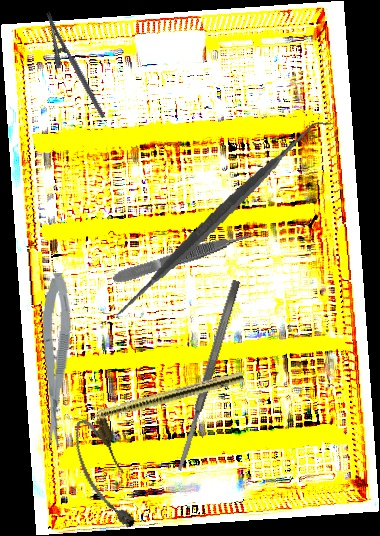Cannula: (67, 412, 143, 536)
Handpiece: (66, 368, 245, 430)
Micro Scissor: (35, 272, 74, 447)
Needle Holder: (31, 11, 106, 126)
Spatula Surgical: (101, 101, 334, 336), (173, 279, 243, 472)
Tissue Forceps: (110, 229, 254, 286)
